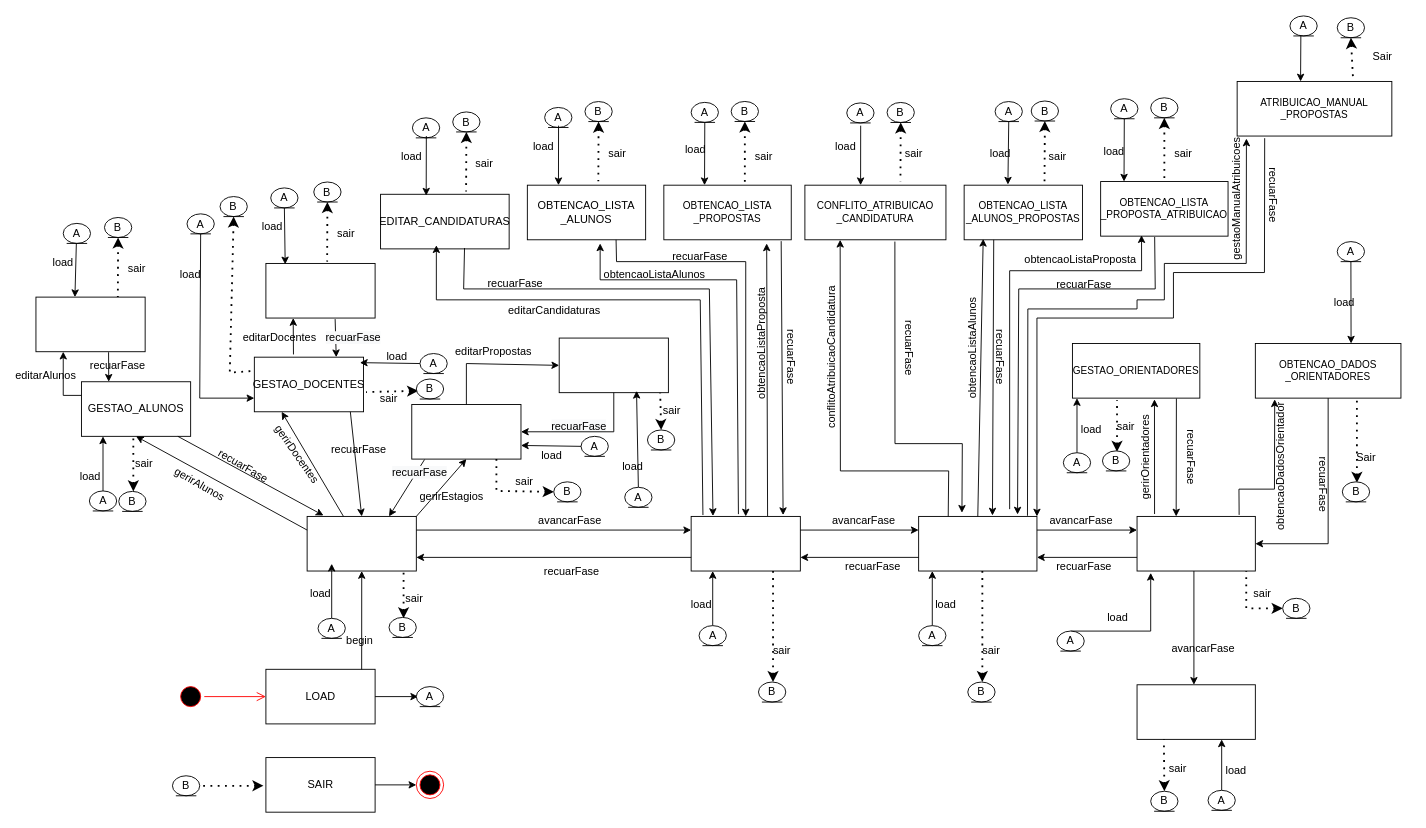
Some shapes in this 1426 by 828 pixel diagram are drawn without their labels. The centre of each missing label's shape, as x and y in pixels:
ATRIBUICAO _ORIENTADORES: the point at 1195,543
ATRIBUICAO_PROPOSTA: the point at 977,543
CONFIG_OPTIONS: the point at 361,543
CONSULTA: the point at 1195,711
EDITAR_ALUNOS: the point at 90,324
EDITAR_DOCENTES: the point at 320,290
EDITAR_PROPOSTAS: the point at 613,365
GESTAO_PROPOSTA: the point at 466,431
OPCOES_CANDIDATURA: the point at 745,543
